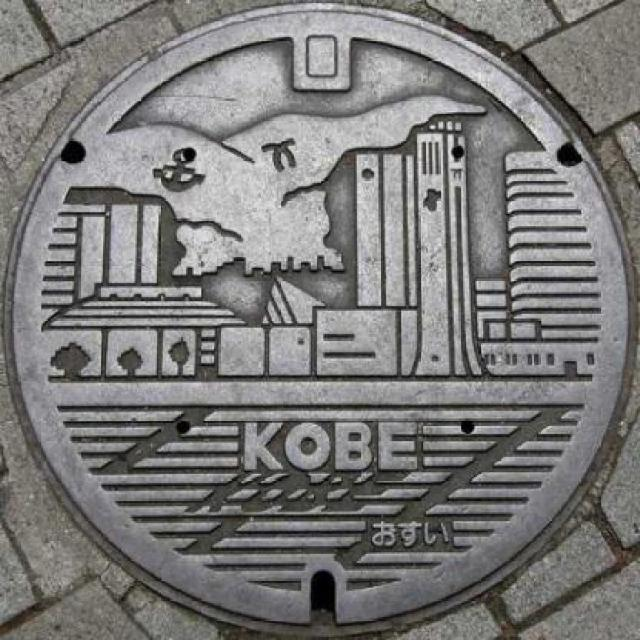Manhole: (11, 4, 638, 626)
